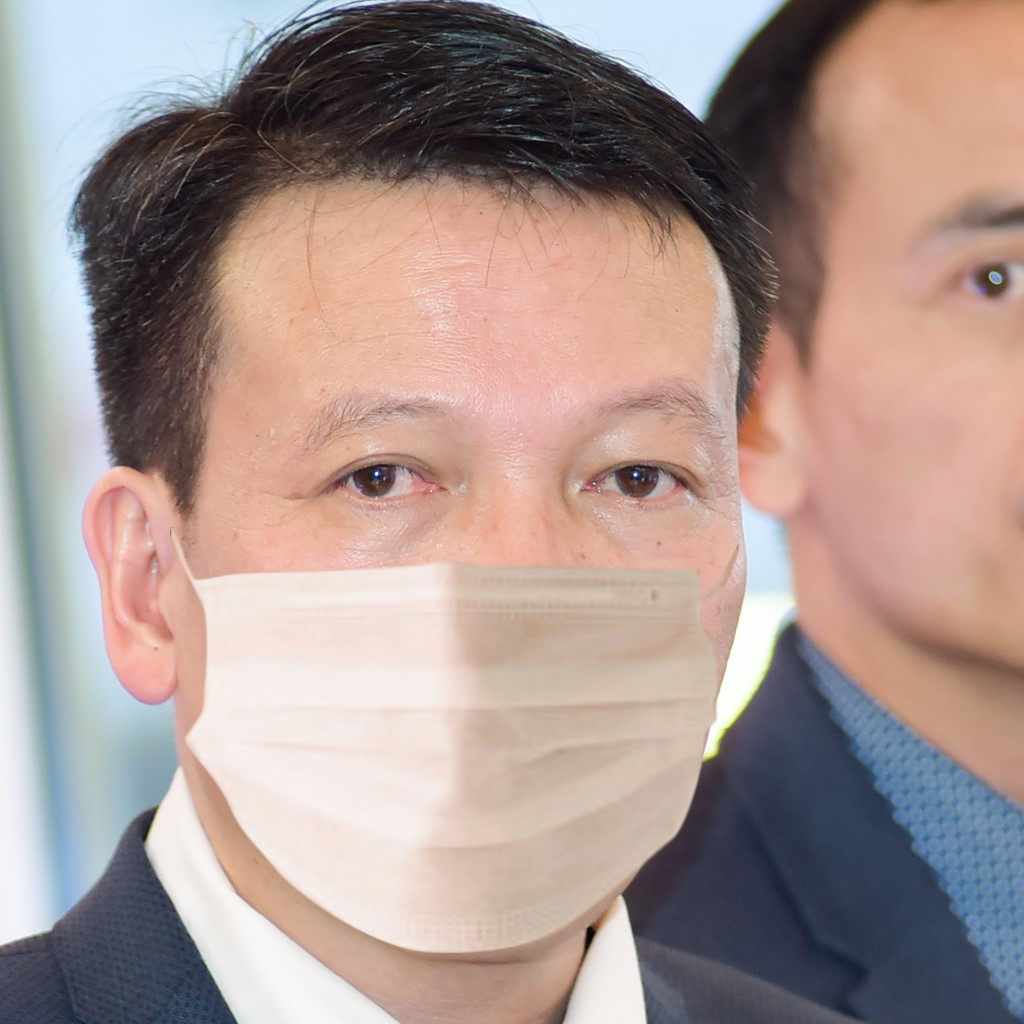con_mascara: (137, 121, 742, 919)
